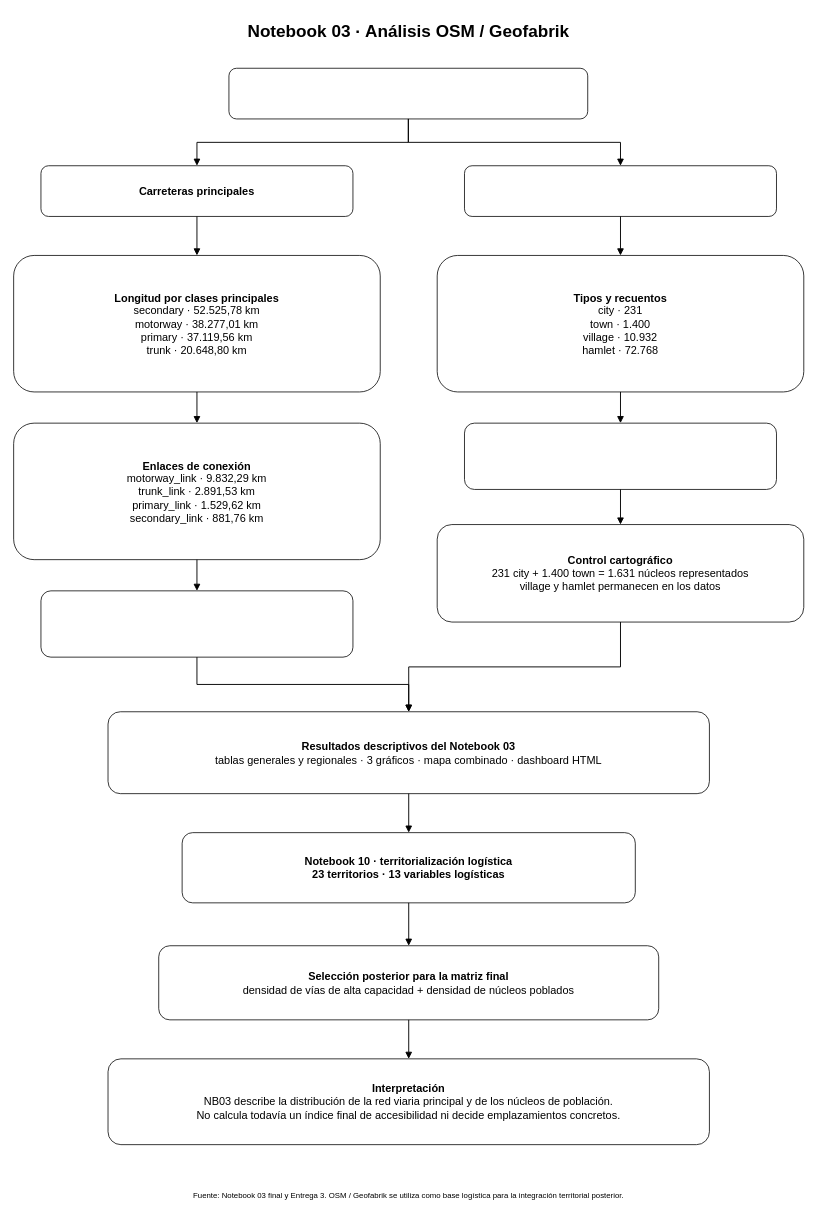
This 817x1220 diagram has some shape labels left out. The shapes that lost their labels are listed below. From the top down, each one's centre as x and y in pixels, then its label:
(x=408, y=93): Capas OSM validadas
(x=620, y=190): Núcleos de población
(x=620, y=455): Total núcleos de población 85.331 núcleos
(x=196, y=623): Total red viaria seleccionada 549.072 tramos · 163.706,35 km
